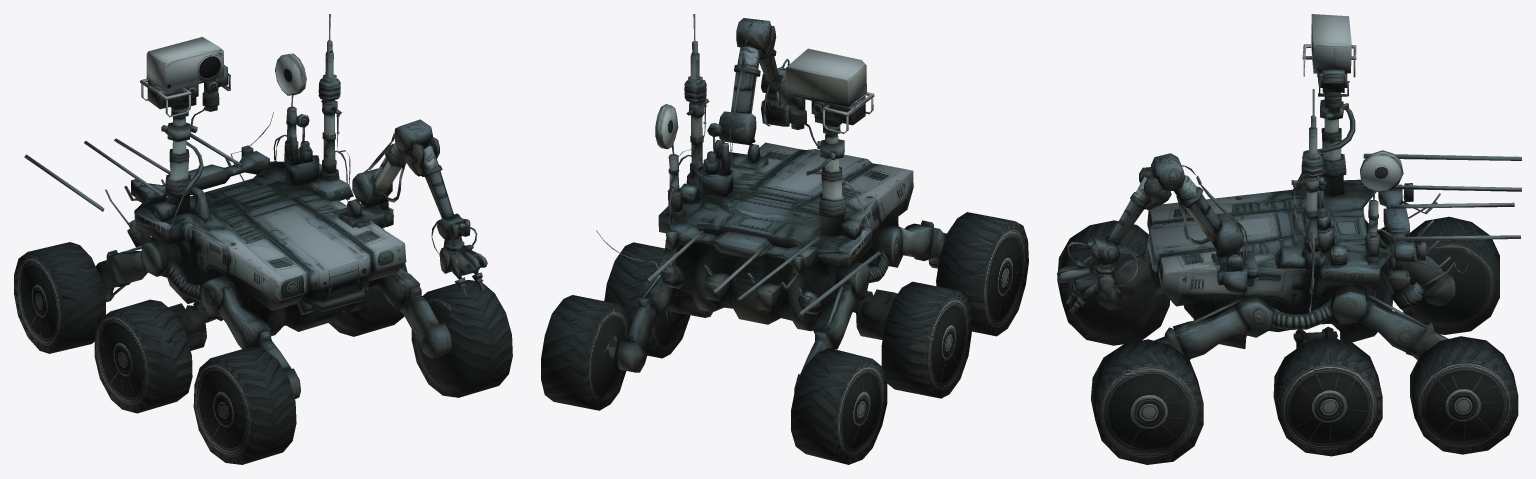
The model's file is 019e0dc7-2345-72b4-8d53-3ecf0edac79b.glb.
The picture shows the model from 3 angles, left to right: view 1: azimuth 30°, elevation 25°; view 2: azimuth 150°, elevation 25°; view 3: azimuth 270°, elevation 25°; orthographic projection. The views are drawn at different scales.
Parts seen in each view (by area): view 1: tripo_node_e0b18ca9-a814-401d-9f26-8ce3302ab861; view 2: tripo_node_e0b18ca9-a814-401d-9f26-8ce3302ab861; view 3: tripo_node_e0b18ca9-a814-401d-9f26-8ce3302ab861.
Part boxes in pixels (x1,y1,x2,y2): tripo_node_e0b18ca9-a814-401d-9f26-8ce3302ab861: (14,14,512,464); tripo_node_e0b18ca9-a814-401d-9f26-8ce3302ab861: (541,14,1028,464); tripo_node_e0b18ca9-a814-401d-9f26-8ce3302ab861: (1057,14,1521,464).
Bounding box in the file's own units: 0.7871 × 0.8027 × 0.998.
Materials: 1 (1 with a texture image).
